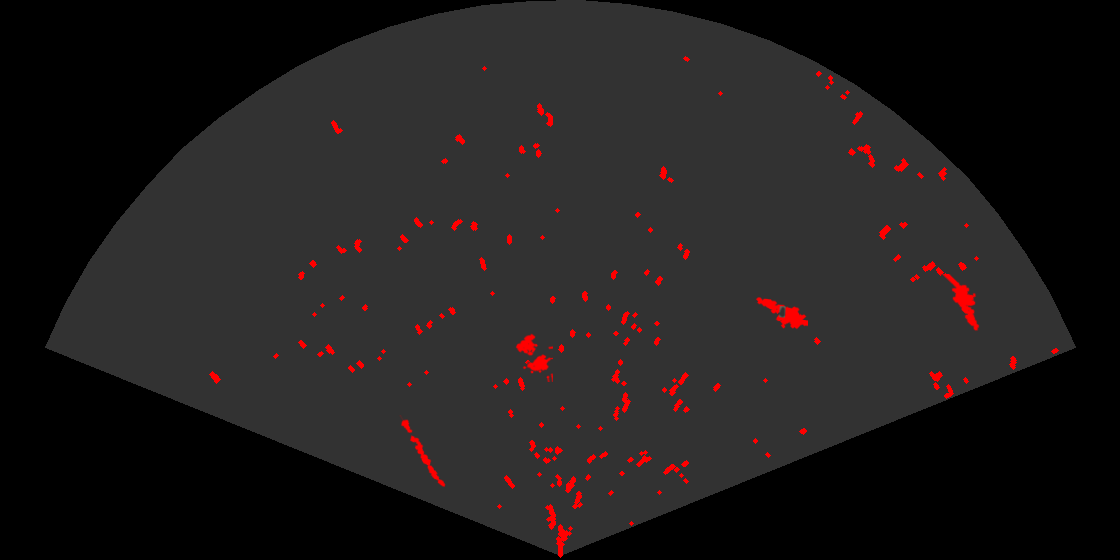cage: (514, 332, 553, 382)
chain: (398, 415, 447, 489)
frogman: (940, 274, 981, 333), (754, 296, 808, 331)
